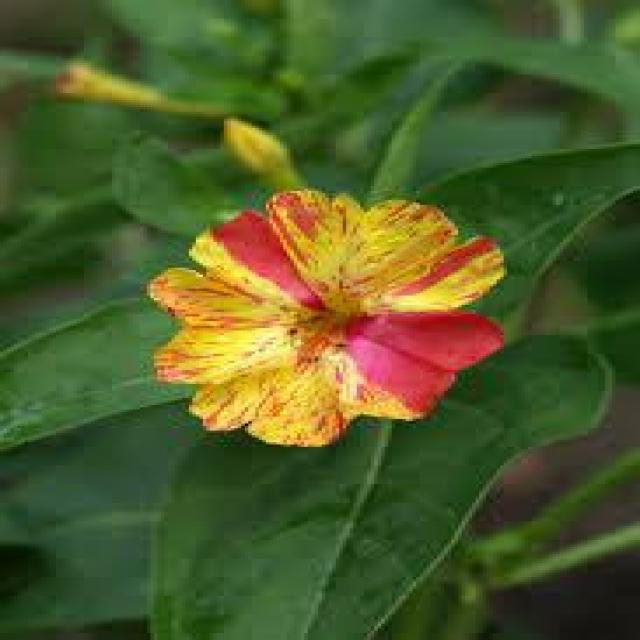organic waste: (147, 184, 521, 437)
